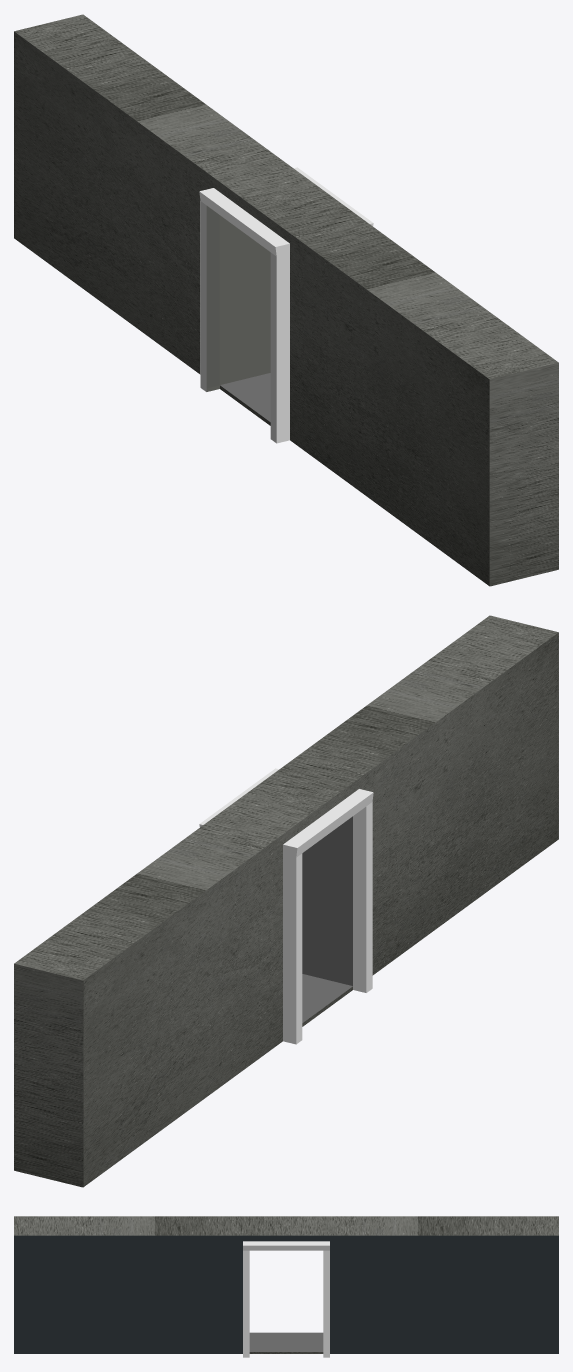
The model's file is ConectorNivel2.fbx.
3 views of the same model, one above another, from view 1: azimuth 30°, elevation 25°; view 2: azimuth 150°, elevation 25°; view 3: azimuth 270°, elevation 25° (orthographic). The views are drawn at different scales.
Visible parts, largest first — view 1: Pared.005; view 2: Pared.005; view 3: Pared.005.
Part boxes in pixels (x1,y1,x2,y2): Pared.005: [14, 14, 558, 586]; Pared.005: [14, 615, 558, 1187]; Pared.005: [14, 1216, 558, 1357].
Bounding box in the file's own units: 119 × 240 × 1000.
Materials: 2 (2 with a texture image).
